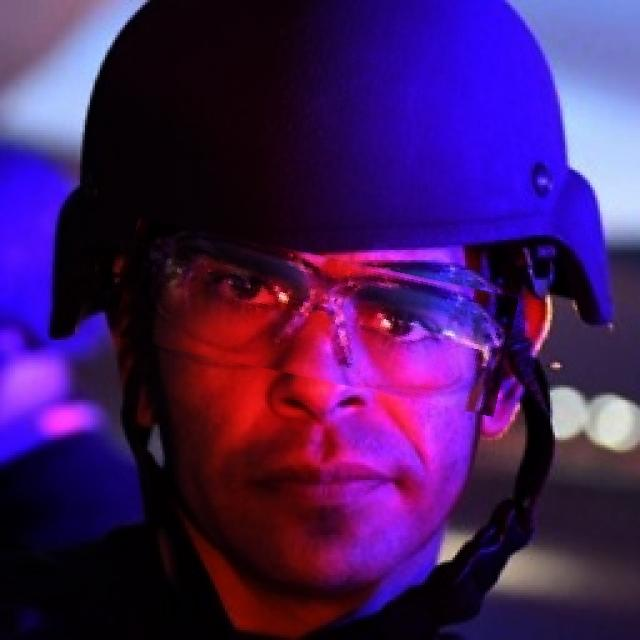glasses: (117, 236, 514, 398)
